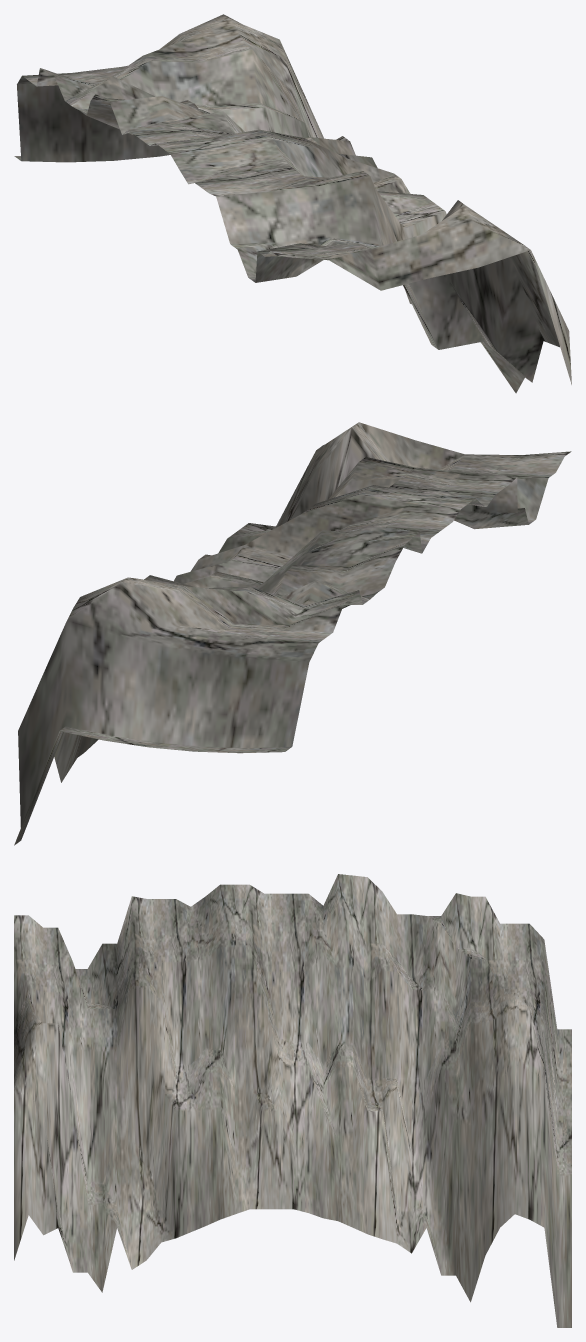
File: DWARF_PALACE_MAINHALL_CELLING02A01.fbx
The picture shows the model from 3 angles, top to bottom: view 1: azimuth 30°, elevation 25°; view 2: azimuth 150°, elevation 25°; view 3: azimuth 270°, elevation 25°; orthographic projection. The views are drawn at different scales.
Parts seen in each view (by area): view 1: DWARF_PALACE_MAINHALL_CELLING02A01; view 2: DWARF_PALACE_MAINHALL_CELLING02A01; view 3: DWARF_PALACE_MAINHALL_CELLING02A01.
Boxes of the visible parts, <box> form: DWARF_PALACE_MAINHALL_CELLING02A01: <box>14,14,571,393</box>; DWARF_PALACE_MAINHALL_CELLING02A01: <box>14,422,571,845</box>; DWARF_PALACE_MAINHALL_CELLING02A01: <box>14,874,571,1327</box>.
Bounding box in the file's own units: 315690 × 300972 × 493365.
1 material, 1 textured.
